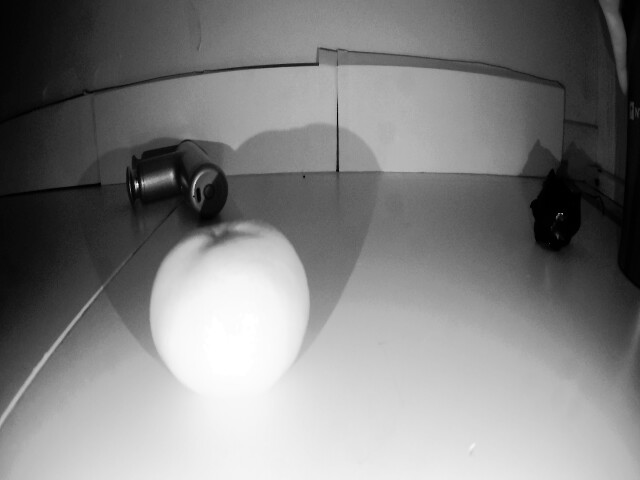black: (530, 172, 582, 256)
